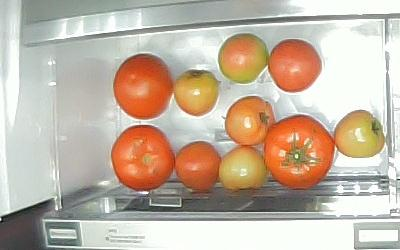tomato: (263, 115, 335, 189), (112, 125, 174, 190), (114, 53, 174, 120), (267, 39, 323, 93), (217, 34, 269, 84), (225, 96, 276, 145), (334, 110, 385, 158), (219, 144, 269, 192), (174, 141, 221, 192), (173, 69, 220, 117)
